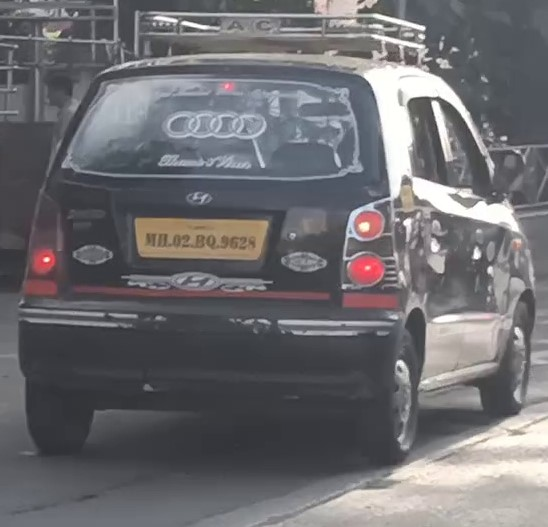MH02BQ9628: (135, 215, 269, 259)
